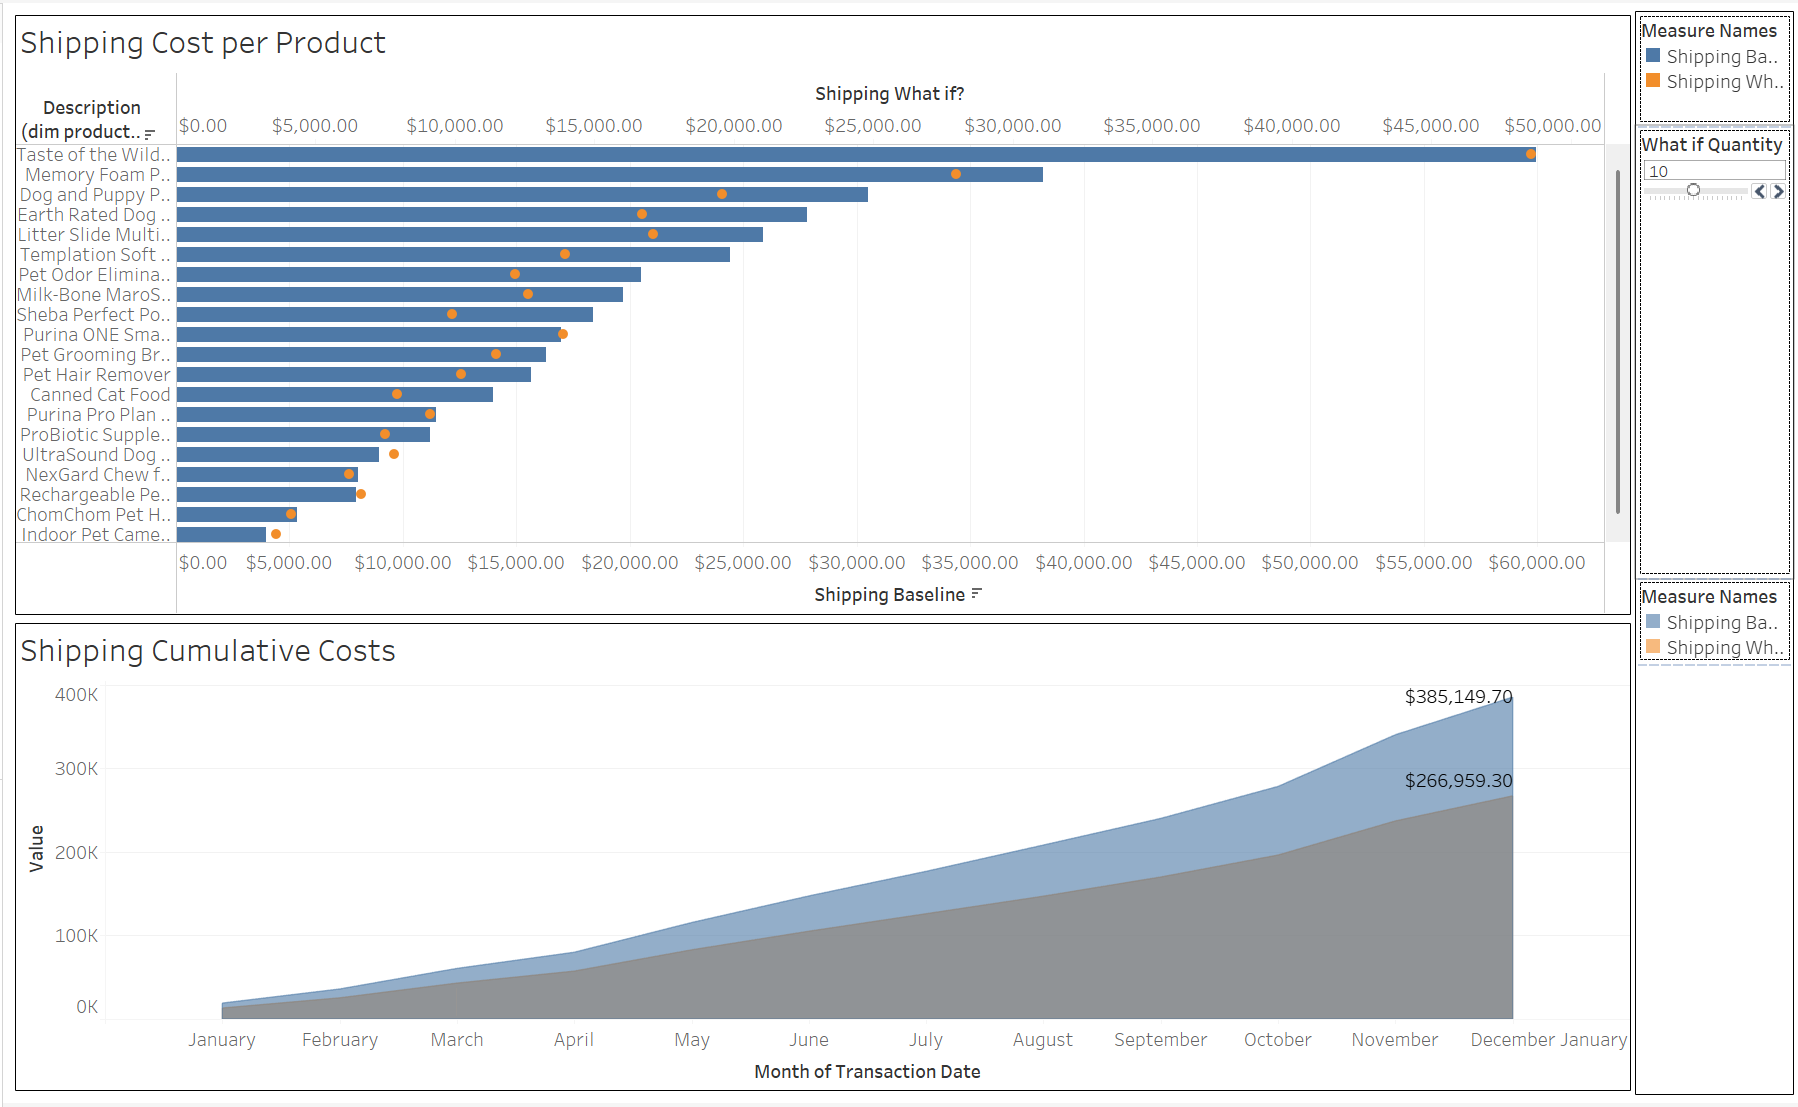

This screenshot's page, from the dashboard's own definition file:
{"tool":"tableau","page":{"name":"What if Analysis","canvas":[1800,1100],"ordinal":1},"visuals":[{"type":"worksheet","title":"Shipping Cost per Product","mark":"Automatic","rows":["Description (dim_products.csv)"],"cols":["Calculation_2533274801454264324","Shipping Baseline (copy)_2533274801472057350"],"box":[8,8,1624,608]},{"type":"legend","title":"Shipping Cost per Product","param":"[federated.12z1sss0bsylgv1e0dhbm0hbnvm0].[:Measure Names]","box":[1632,8,160,114]},{"type":"parameter","param":"[Parameters].[Parameter 1]","box":[1632,122,160,452]},{"type":"legend","title":"Shipping Cumulative Costs","param":"[federated.12z1sss0bsylgv1e0dhbm0hbnvm0].[:Measure Names]","box":[1632,574,160,84]},{"type":"worksheet","title":"Shipping Cumulative Costs","mark":"Area","cols":["Transaction Date"],"box":[8,616,1624,476]}]}

Visuals, with their boxes in screenshot pixels (x1, y1, x2, y2), scaled from the page's 1800x1100 canvas onto the 1798x1107 screenshot:
"Shipping Cost per Product" worksheet: bbox=(8, 8, 1630, 620)
"Shipping Cost per Product" legend: bbox=(1630, 8, 1790, 123)
parameter: bbox=(1630, 123, 1790, 578)
"Shipping Cumulative Costs" legend: bbox=(1630, 578, 1790, 662)
"Shipping Cumulative Costs" worksheet (Area marks): bbox=(8, 620, 1630, 1099)
